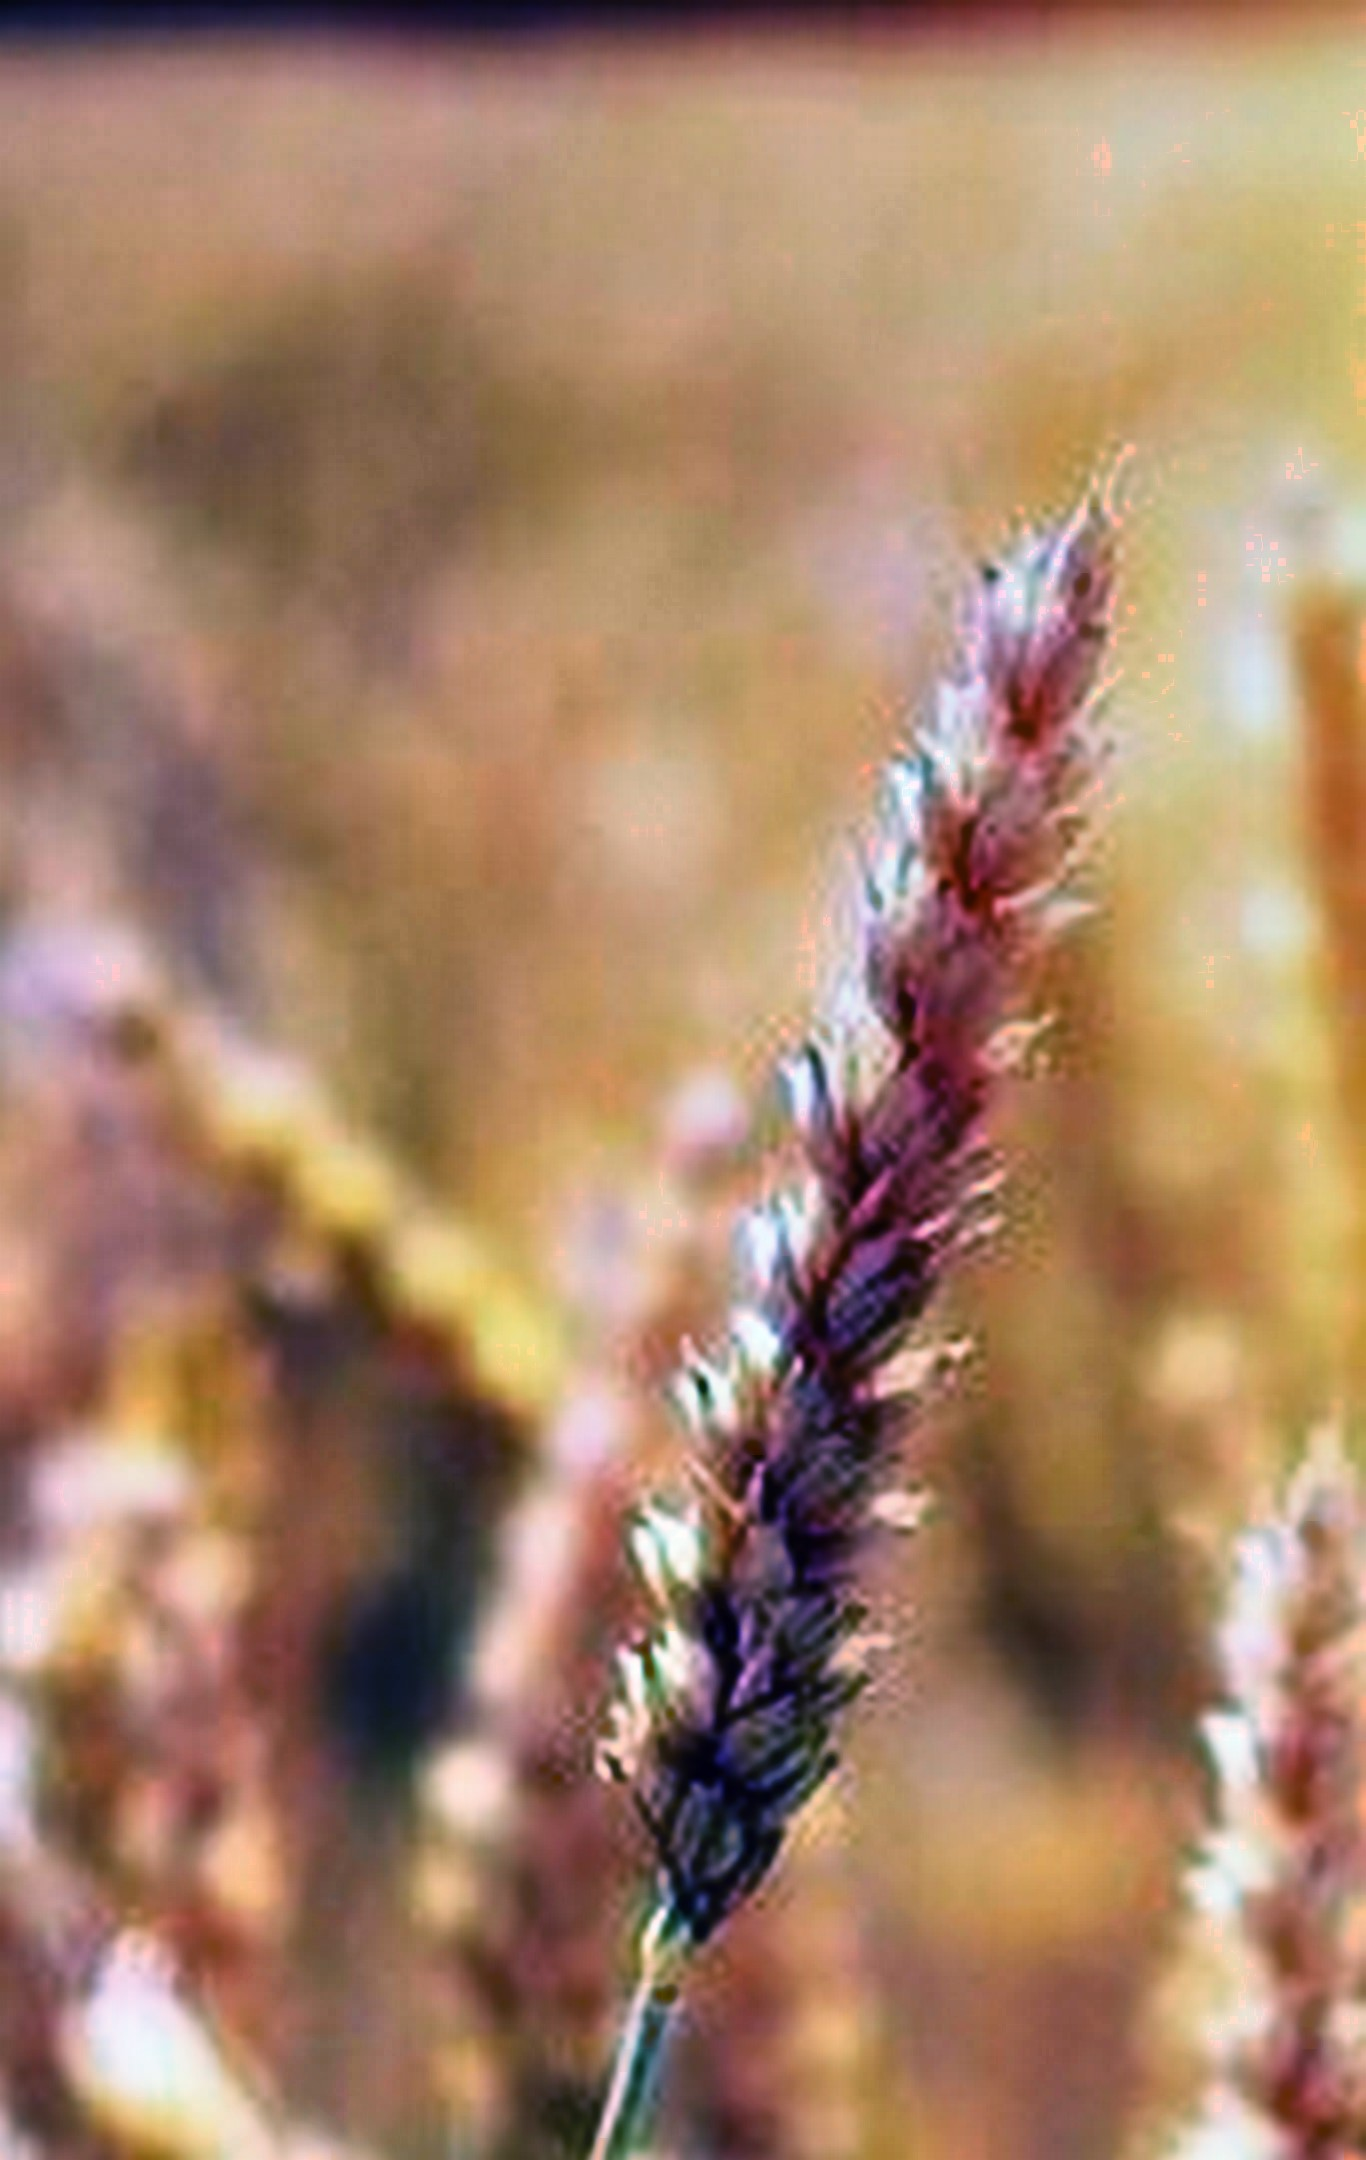Healthy Wheat: (567, 475, 1152, 1940)
